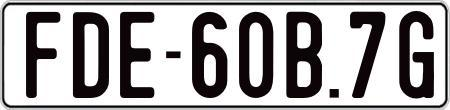0: (239, 12, 277, 98)
6: (190, 12, 228, 103)
7: (350, 11, 388, 98)
B: (283, 10, 322, 96)
D: (72, 10, 112, 101)
E: (118, 11, 155, 100)
F: (26, 11, 61, 102)
G: (396, 9, 431, 102)
